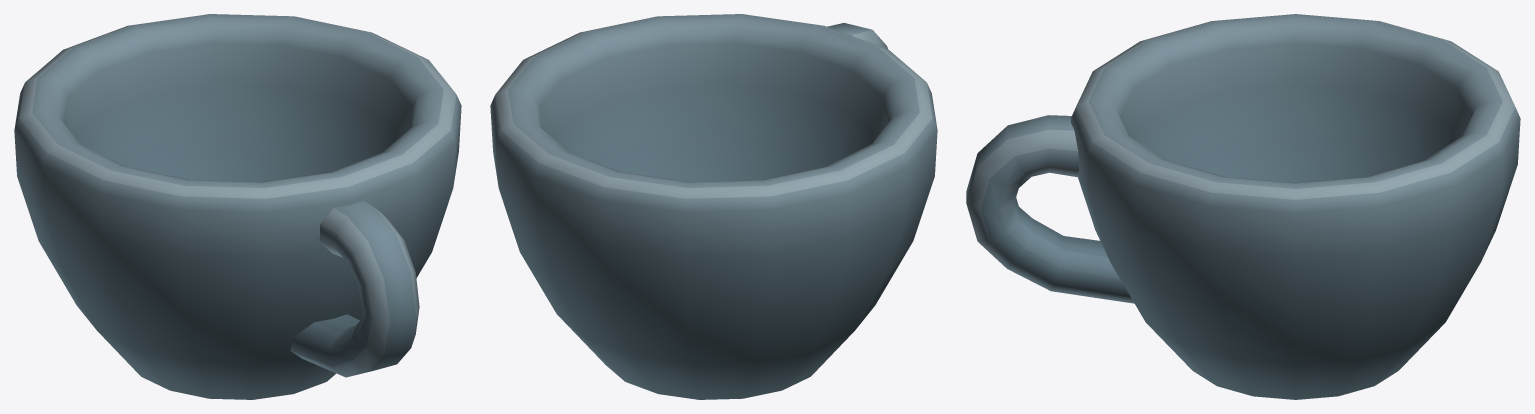
File: cup_007.fbx
The picture shows the model from 3 angles, left to right: view 1: azimuth 30°, elevation 25°; view 2: azimuth 150°, elevation 25°; view 3: azimuth 270°, elevation 25°; orthographic projection.
Parts seen in each view (by area): view 1: cup_007; view 2: cup_007; view 3: cup_007.
Boxes of the visible parts, <box> form: cup_007: <box>14,14,461,399</box>; cup_007: <box>490,14,937,399</box>; cup_007: <box>966,14,1520,399</box>.
Size of the model in its own units: 8.39 by 10.34 by 5.17.
